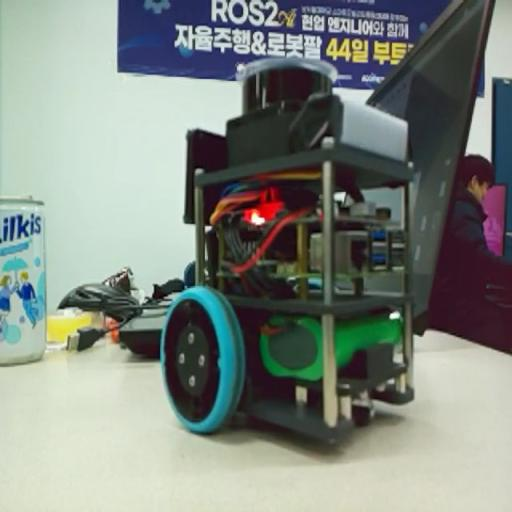pinky_63: (164, 56, 420, 455)
